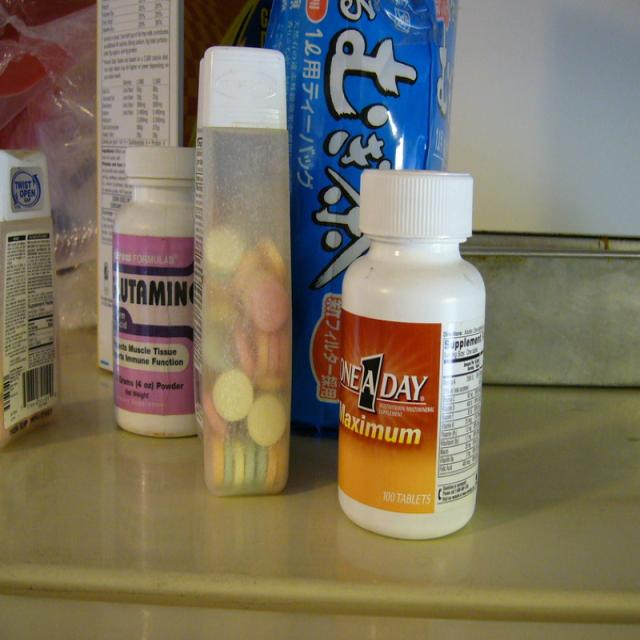container -bottle - jar: (339, 170, 484, 538), (196, 47, 291, 494), (113, 147, 196, 437), (0, 151, 59, 447)
